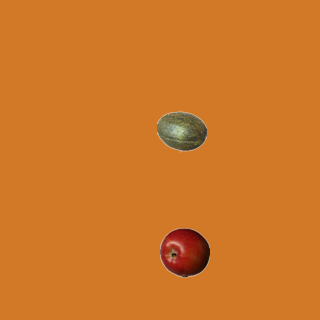Apple Braeburn: (159, 227, 209, 277)
Melon Piel de Sapo: (156, 106, 206, 156)
